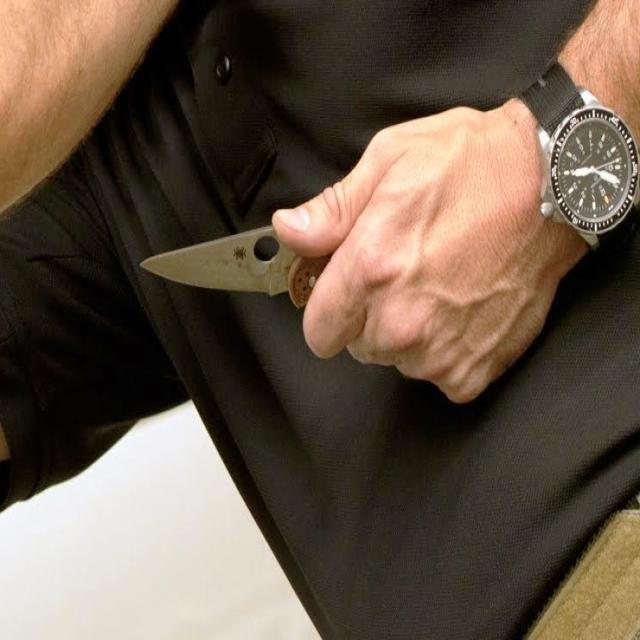knife: (131, 223, 296, 312)
